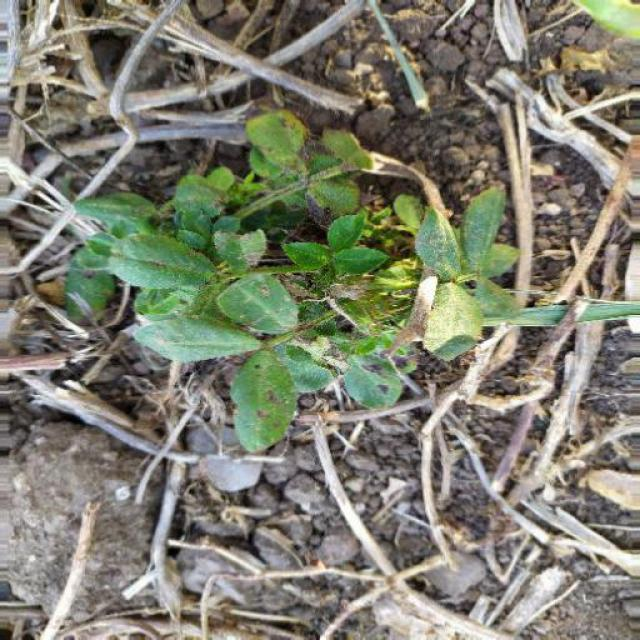weed: (71, 109, 538, 458)
